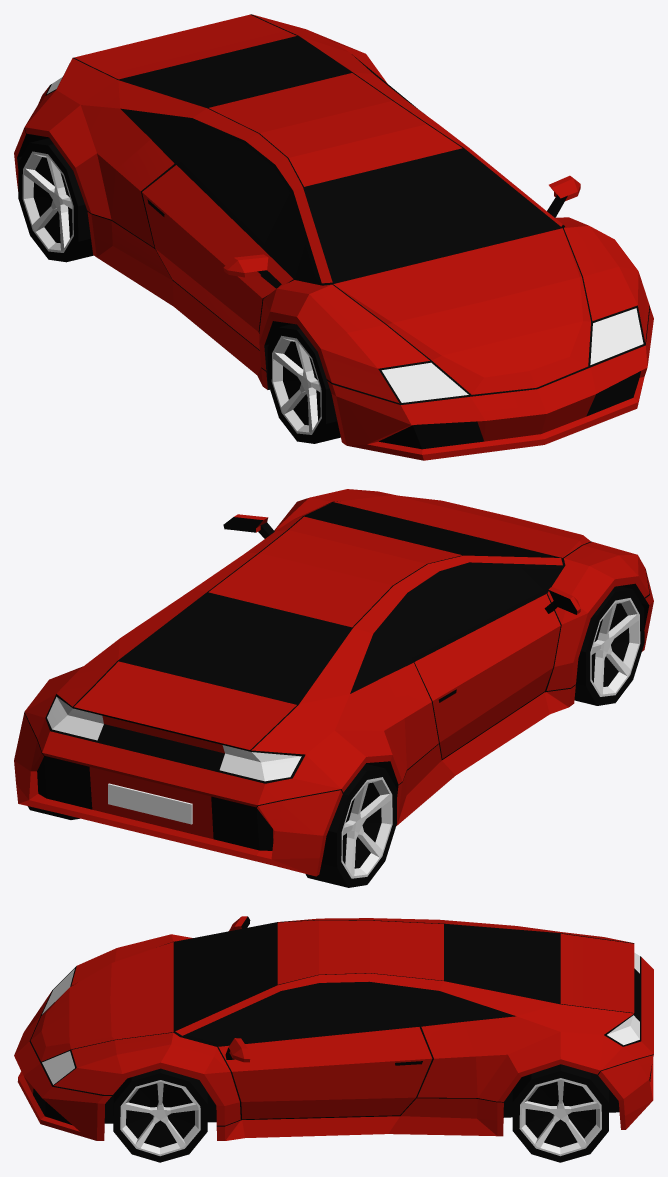
Rendered from Supercar.glb.
The picture shows the model from 3 angles, top to bottom: view 1: azimuth 30°, elevation 25°; view 2: azimuth 150°, elevation 25°; view 3: azimuth 270°, elevation 25°; orthographic projection. The views are drawn at different scales.
Visible parts, largest first — view 1: Supercar; view 2: Supercar; view 3: Supercar.
Part boxes in pixels (x1,y1,x2,y2): Supercar: (14,14,653,460); Supercar: (14,489,653,887); Supercar: (14,916,653,1162).
Bounding box in the file's own units: 3.44 × 1.77 × 6.69.
